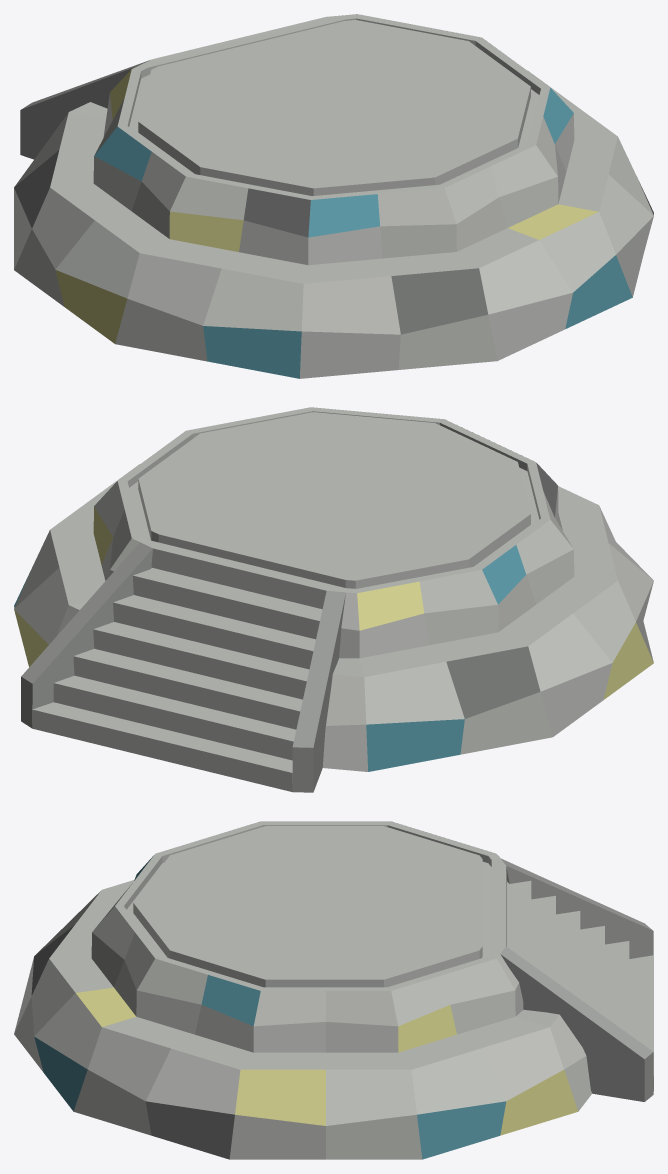
File: Portal.fbx
3 renders of one model, top to bottom at view 1: azimuth 30°, elevation 25°; view 2: azimuth 150°, elevation 25°; view 3: azimuth 270°, elevation 25°, orthographic. The views are drawn at different scales.
Parts seen in each view (by area): view 1: portal; view 2: portal; view 3: portal.
Part boxes in pixels (x1=…): portal: x1=14, y1=14, x2=653, y2=378; portal: x1=14, y1=407, x2=653, y2=792; portal: x1=14, y1=821, x2=653, y2=1159.
Bounding box in the file's own units: 929 × 220 × 969.
